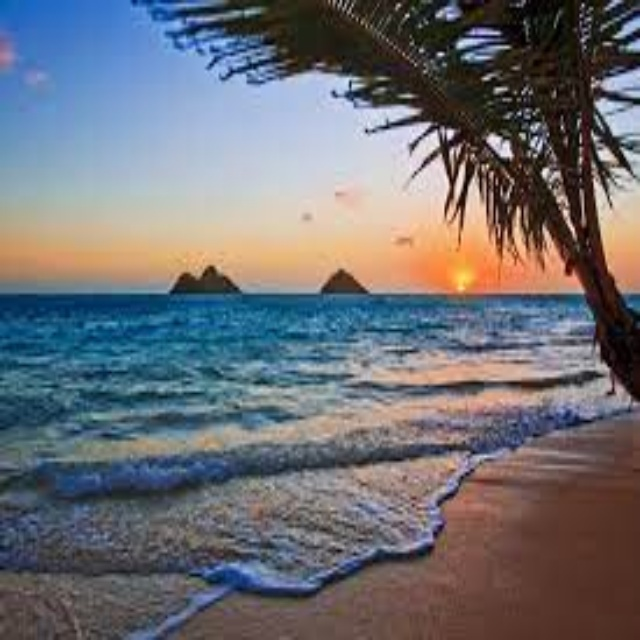linhaEspraiamento: (149, 410, 623, 634)
